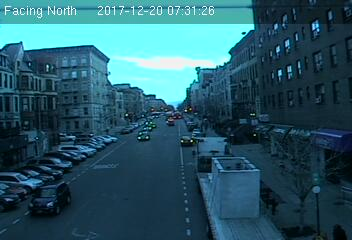car: (27, 181, 72, 214), (137, 132, 151, 142), (179, 135, 192, 144)
truck: (193, 136, 286, 240)
